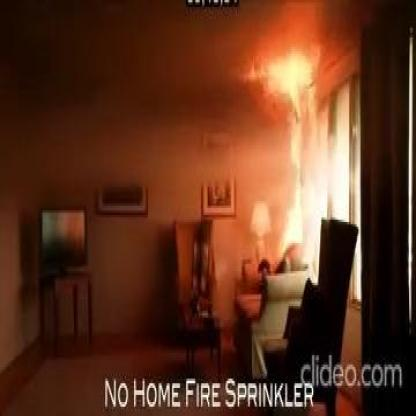fire: (246, 42, 317, 119), (280, 122, 302, 245)
